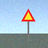sign: (21, 9, 35, 41)
